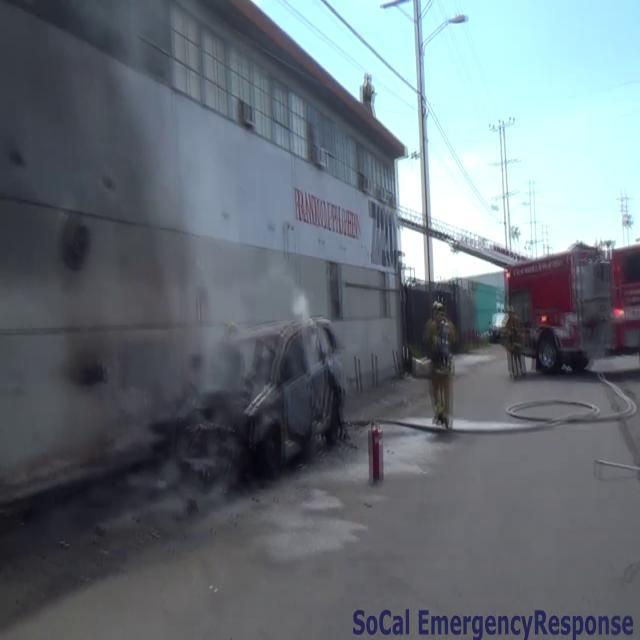Smoke: (0, 1, 225, 536)
